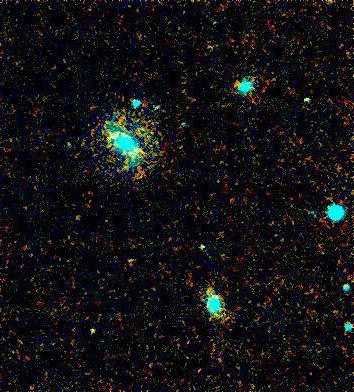star: (77, 315, 107, 345)
